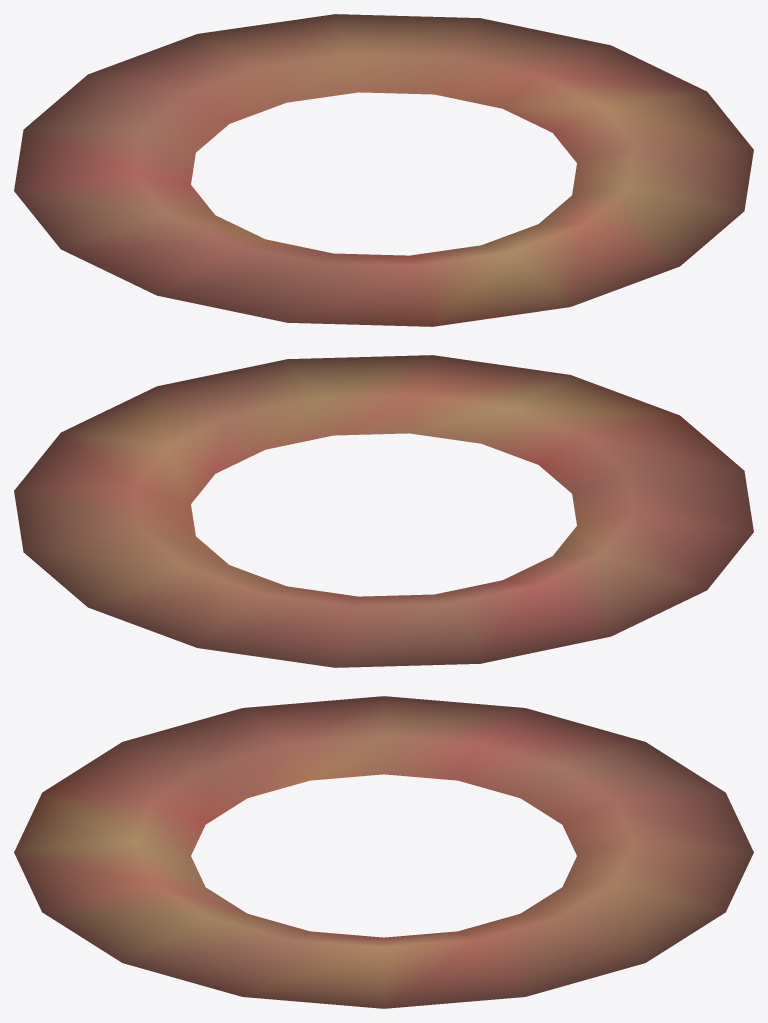
The model's file is space-galaxies-ring-galaxy_v1.glb.
3 views of the same model, one above another, from view 1: azimuth 30°, elevation 25°; view 2: azimuth 150°, elevation 25°; view 3: azimuth 270°, elevation 25° (orthographic).
Parts seen in each view (by area): view 1: Ring Galaxy_v1; view 2: Ring Galaxy_v1; view 3: Ring Galaxy_v1.
Boxes of the visible parts, x1=… form: Ring Galaxy_v1: x1=14, y1=14, x2=753, y2=326; Ring Galaxy_v1: x1=14, y1=355, x2=753, y2=667; Ring Galaxy_v1: x1=14, y1=696, x2=753, y2=1008.
Bounding box in the file's own units: 0.5 × 0.0175 × 0.5.
